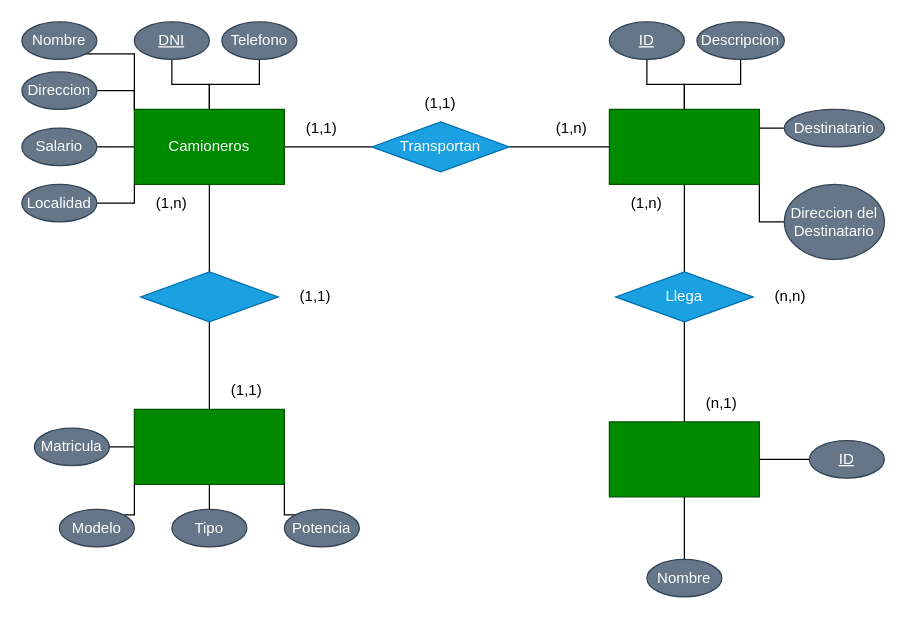
Some shapes in this 906 by 619 pixel diagram are drawn without their labels. Each missing label, with the box of its shape:
Camiones: (133, 408, 284, 484)
Producto: (608, 108, 759, 184)
Provincia: (608, 421, 759, 497)
Son conducidos: (139, 271, 278, 322)
